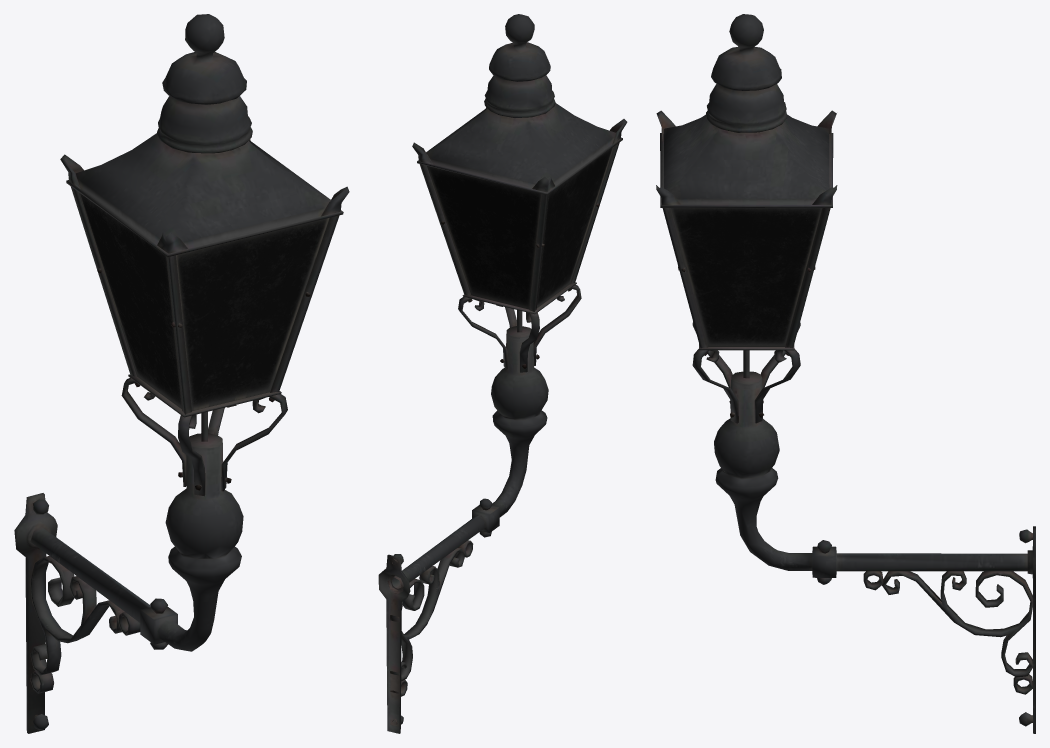
3 views of the same model, side by side, from view 1: azimuth 30°, elevation 25°; view 2: azimuth 150°, elevation 25°; view 3: azimuth 270°, elevation 25° (orthographic). The views are drawn at different scales.
Parts seen in each view (by area): view 1: street_lamp_02.001, street_lamp_02.002; view 2: street_lamp_02.001, street_lamp_02.002; view 3: street_lamp_02.001, street_lamp_02.002.
Boxes of the visible parts, left/top/right/bottom form: street_lamp_02.001: left=14, top=14, right=349, bottom=733; street_lamp_02.002: left=78, top=192, right=329, bottom=410; street_lamp_02.001: left=378, top=14, right=627, bottom=733; street_lamp_02.002: left=427, top=147, right=613, bottom=309; street_lamp_02.001: left=656, top=14, right=1035, bottom=733; street_lamp_02.002: left=671, top=208, right=822, bottom=346.
Bounding box in the file's own units: 0.3848 × 1.67 × 0.8057.
Materials: 3 (3 with a texture image).
